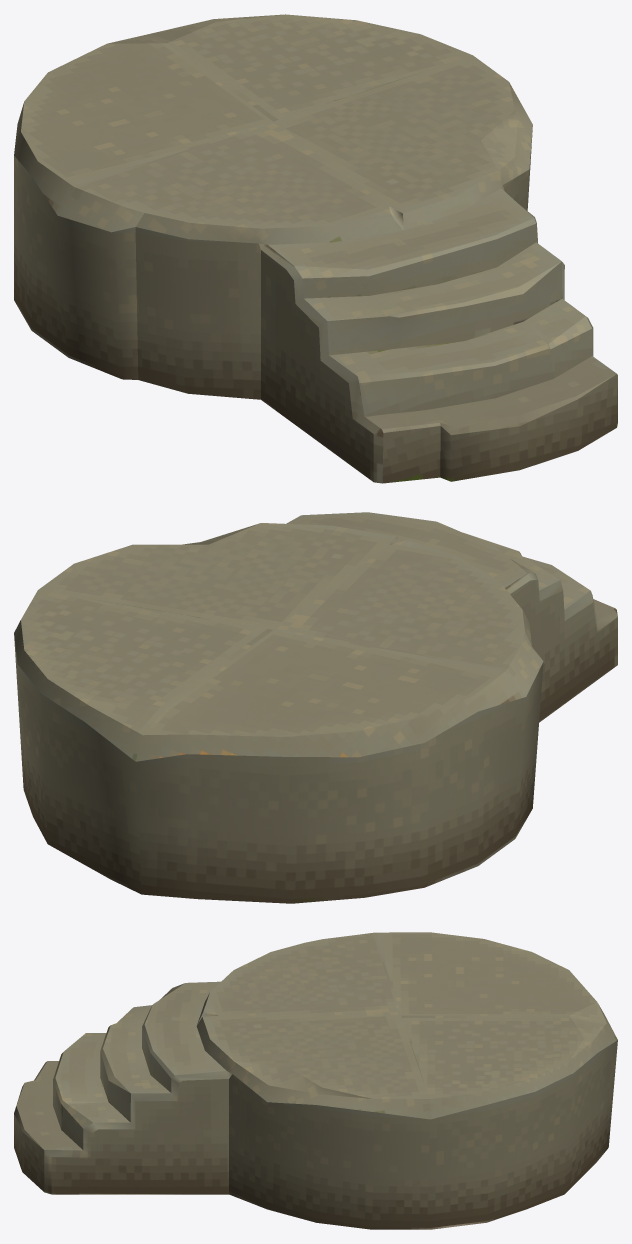
File: Pedestal.fbx
The picture shows the model from 3 angles, top to bottom: view 1: azimuth 30°, elevation 25°; view 2: azimuth 150°, elevation 25°; view 3: azimuth 270°, elevation 25°; orthographic projection. The views are drawn at different scales.
Visible parts, largest first — view 1: Pedestal; view 2: Pedestal; view 3: Pedestal.
Boxes of the visible parts, bbox=[...] form: Pedestal: bbox=[14, 14, 617, 483]; Pedestal: bbox=[14, 512, 617, 903]; Pedestal: bbox=[14, 932, 617, 1229].
Size of the model in its own units: 1319 by 468 by 1918.
